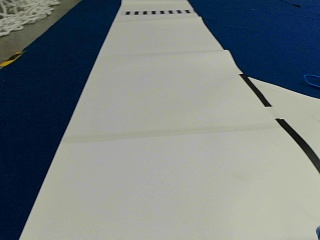crosswalk: (125, 9, 189, 14)
